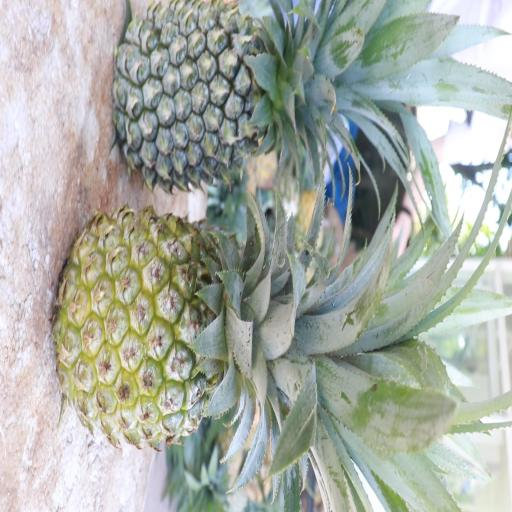------------------------------: (49, 202, 342, 454)
